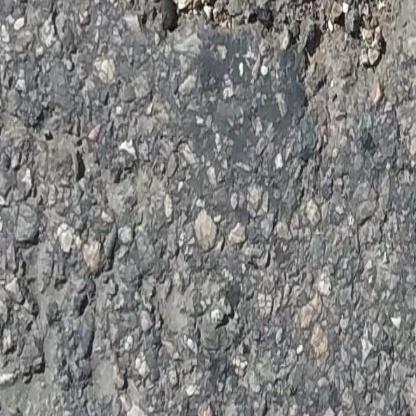Cracks: (162, 0, 413, 43)
